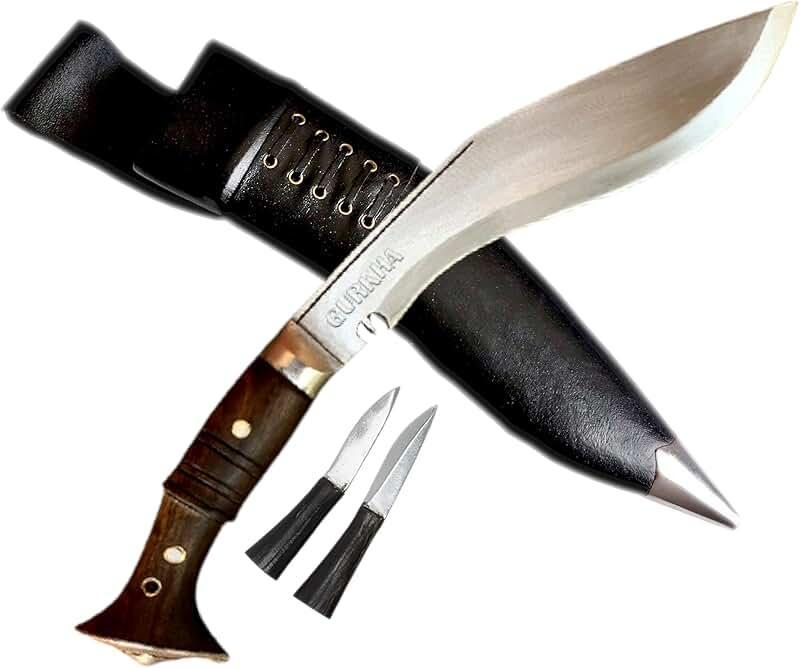faca: (295, 406, 436, 617), (248, 387, 398, 578)
facao: (76, 0, 796, 664)
